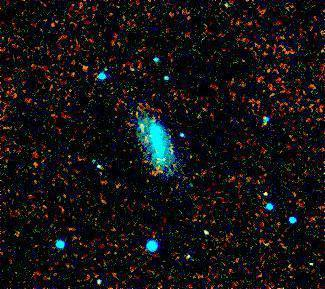star: (250, 178, 280, 208)
